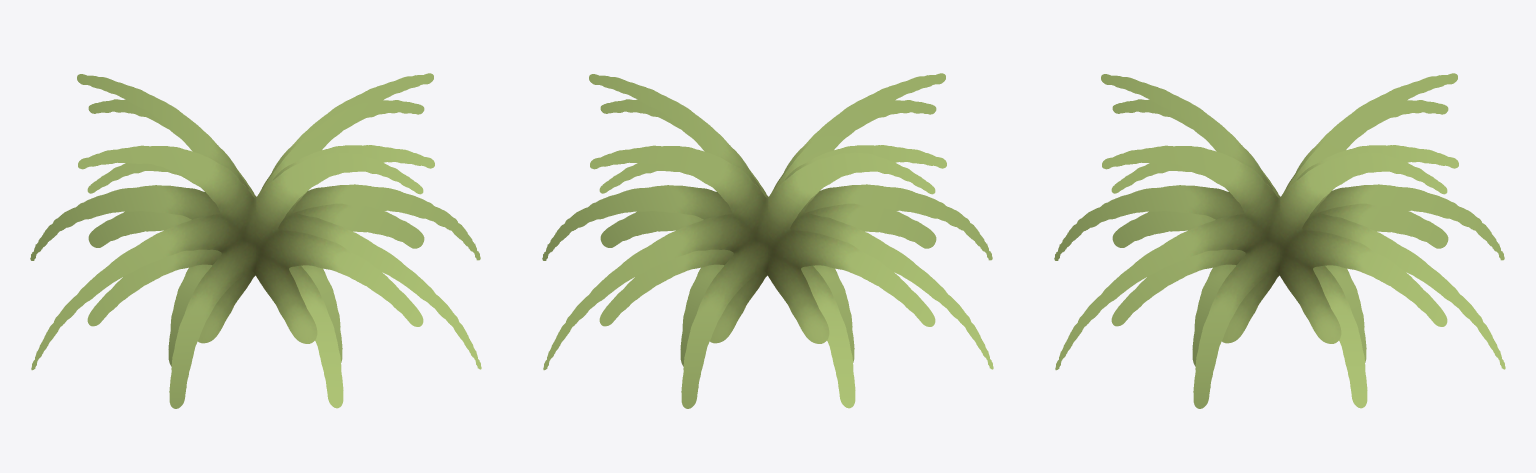
Rendered from painted-weed-033.glb.
3 views of the same model, side by side, from view 1: azimuth 30°, elevation 25°; view 2: azimuth 150°, elevation 25°; view 3: azimuth 270°, elevation 25° (orthographic).
Bounding box in the file's own units: 11.74 × 6.83 × 10.19.
1 material, 1 textured.
